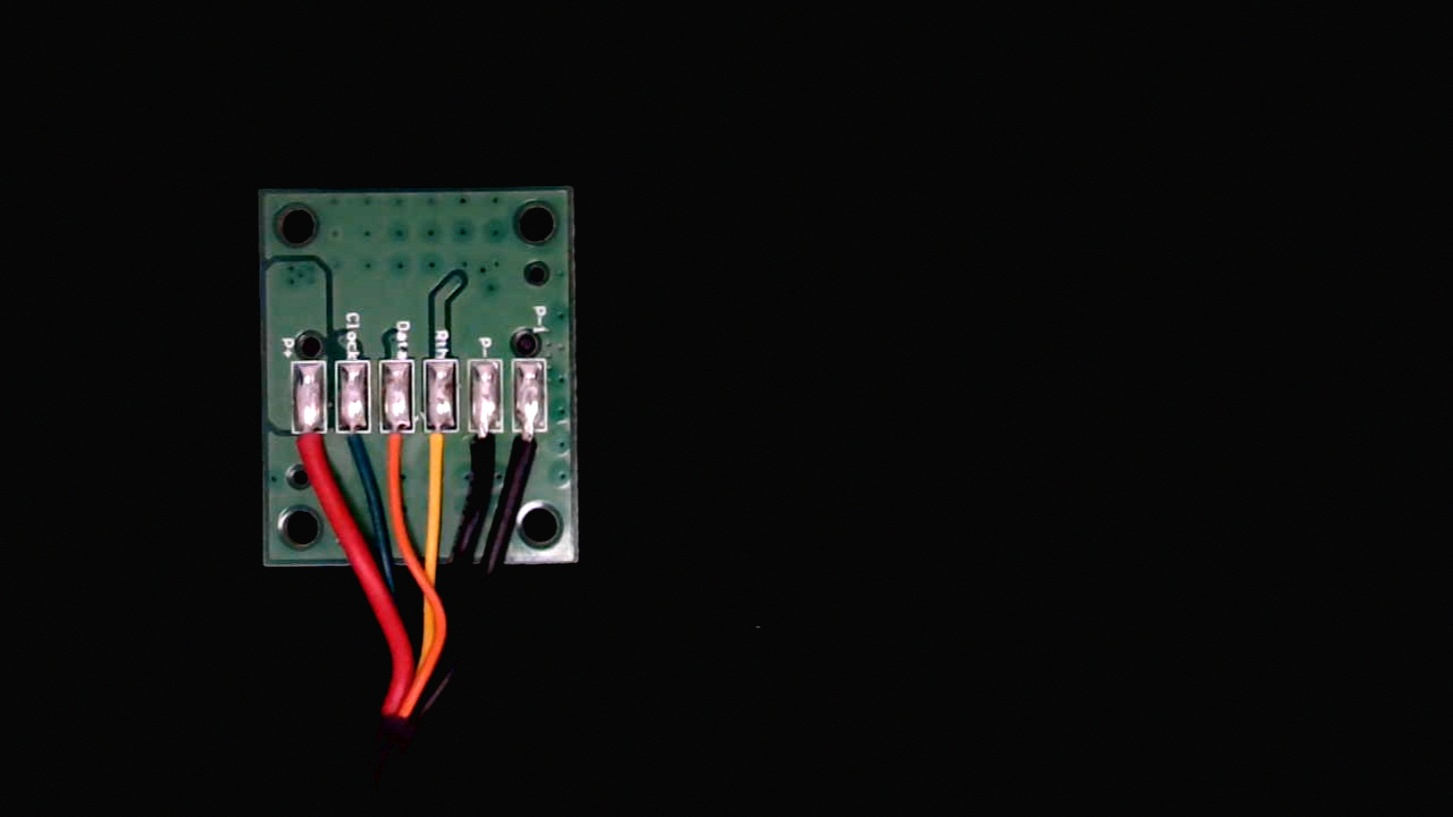Black: (470, 413, 505, 489)
Black1: (517, 415, 556, 492)
Green: (335, 409, 371, 481)
Orange: (380, 411, 415, 482)
Red: (289, 410, 329, 490)
Yellow: (427, 412, 459, 492)
